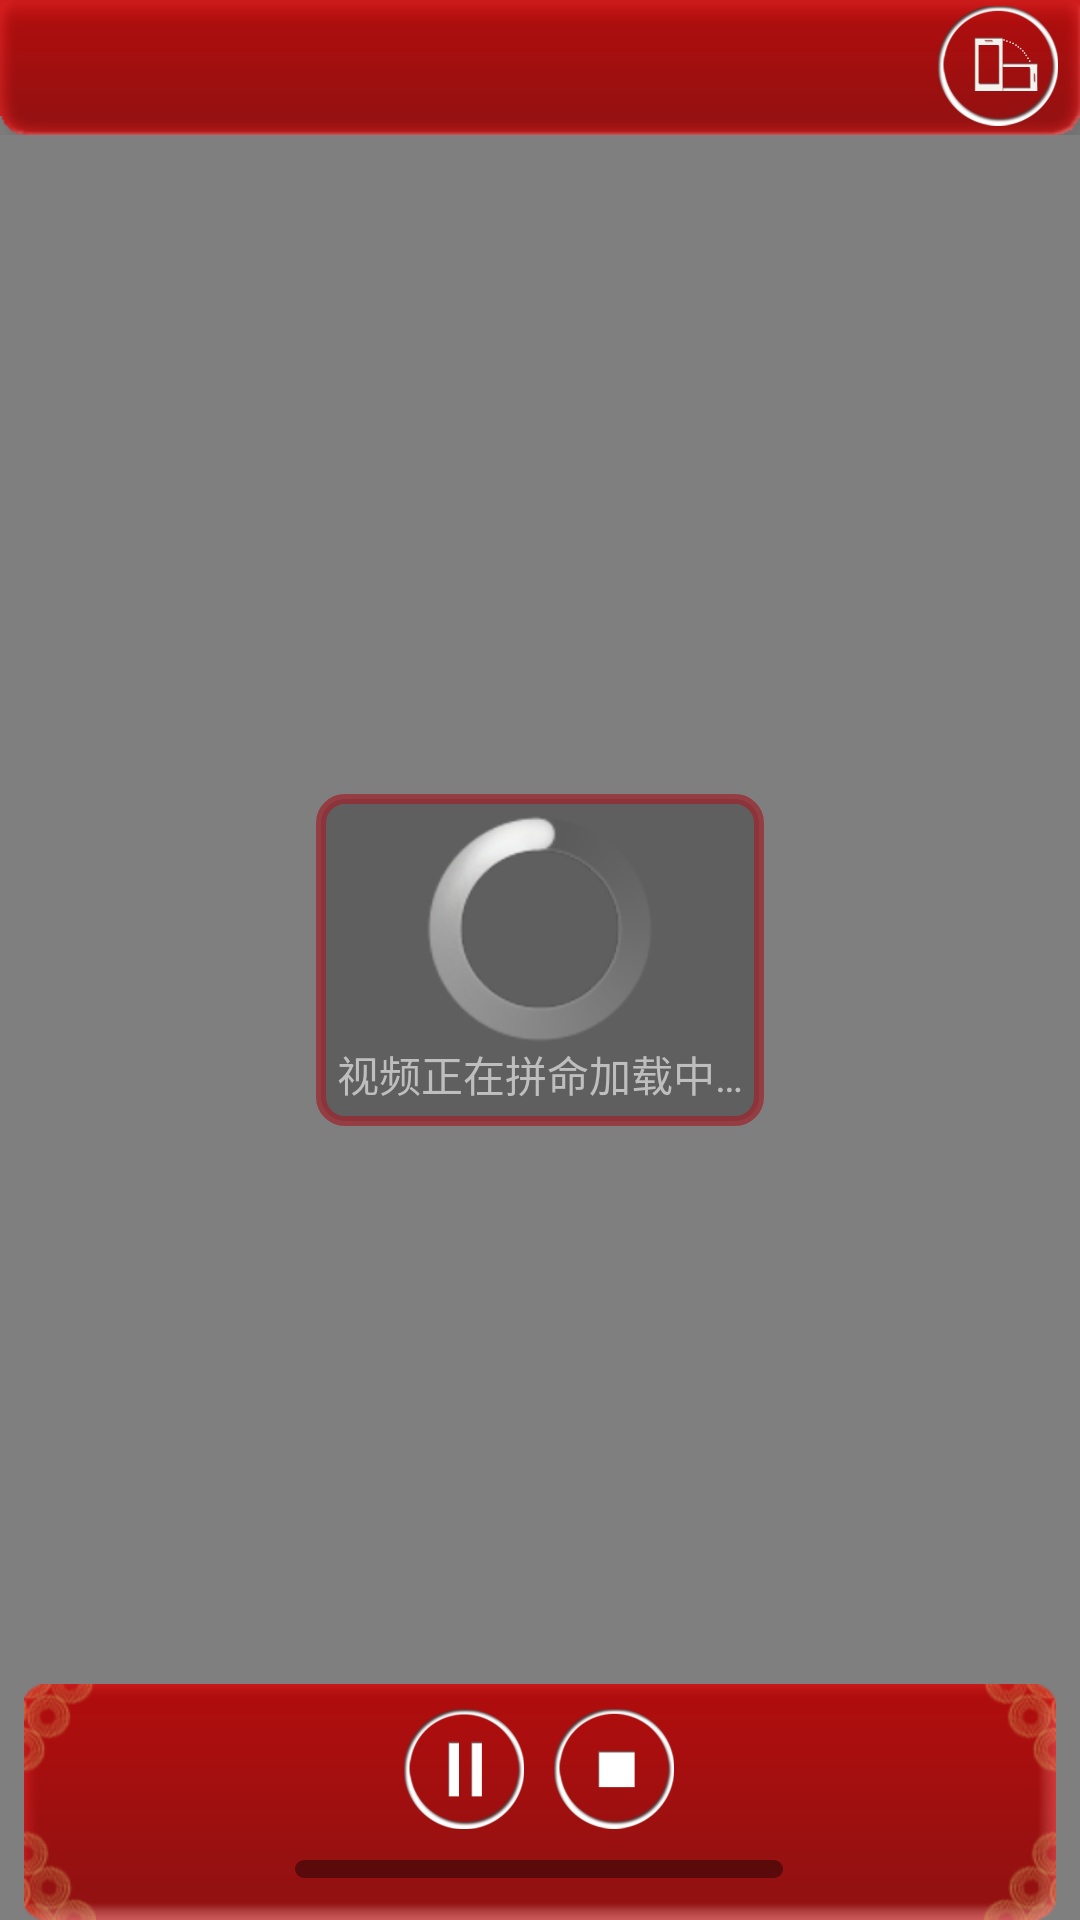

Icon bounding boxes for this 1080px×1920px phone screenshot, format [x1=x1, y1=y1, x2=x2, y2=y2]:
pause: [x1=404, y1=1709, x2=524, y2=1829]
stop: [x1=554, y1=1709, x2=674, y2=1829]
